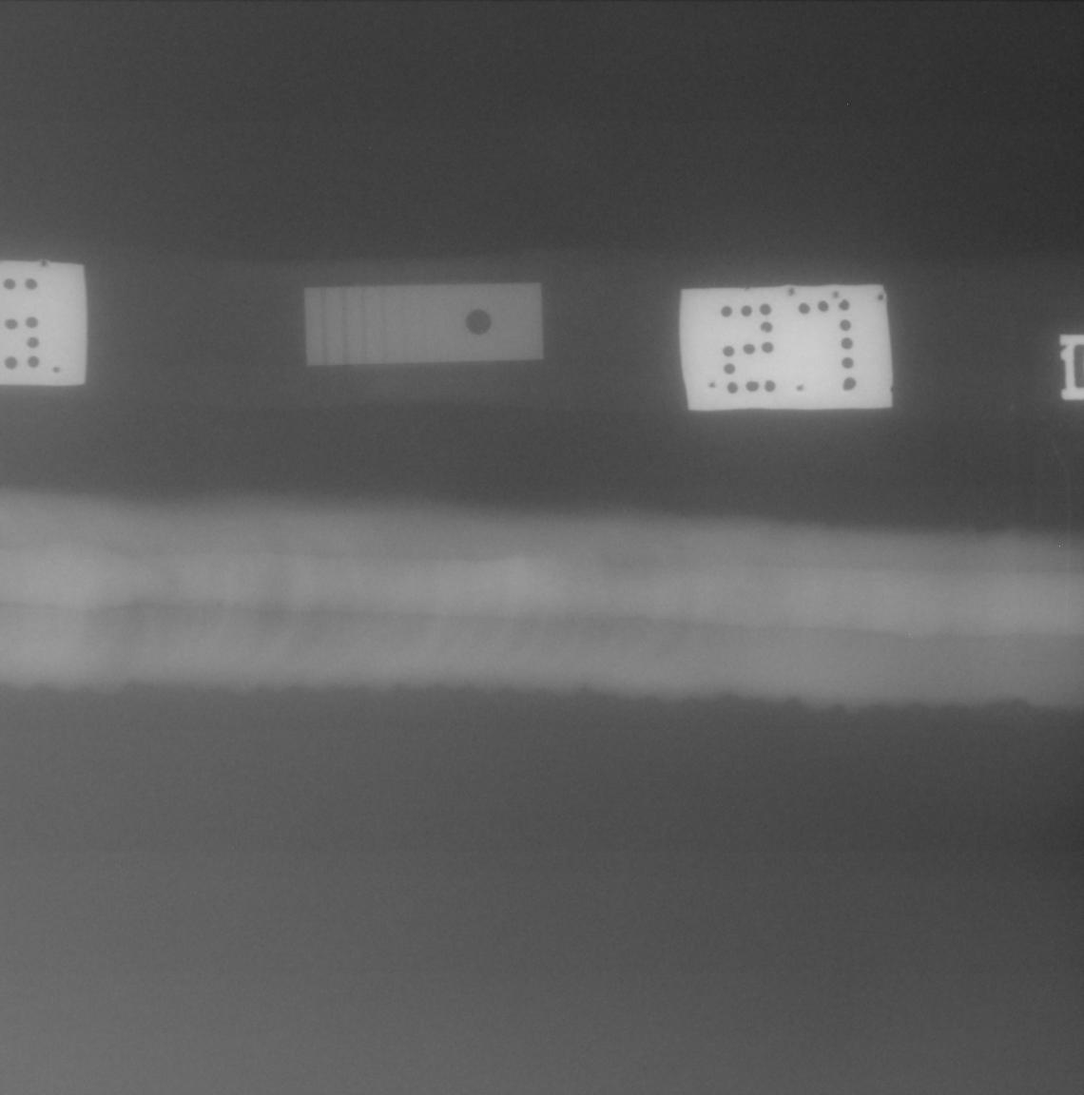Reference Standard 1: (304, 282, 544, 365)
